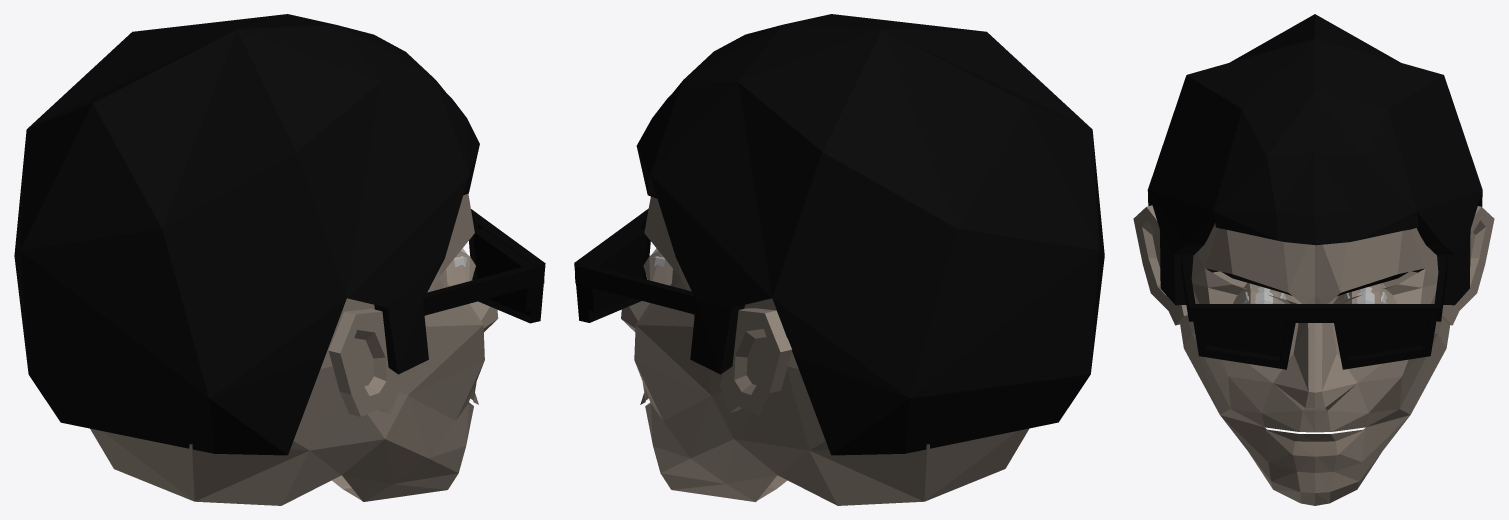
The model's file is head.dae.
3 views of the same model, side by side, from view 1: azimuth 30°, elevation 25°; view 2: azimuth 150°, elevation 25°; view 3: azimuth 270°, elevation 25° (orthographic). The views are drawn at different scales.
Parts seen in each view (by area): view 1: vthair, Head, vtspecs; view 2: vthair, Head, vtspecs; view 3: vthair, Head, vtspecs, vtlips, vteyewht.
Part boxes in pixels (left/top/right/bottom): vthair: left=14, top=14, right=479, bottom=455; Head: left=90, top=194, right=498, bottom=505; vtspecs: left=423, top=209, right=545, bottom=323; vthair: left=636, top=14, right=1104, bottom=455; Head: left=621, top=196, right=1029, bottom=505; vtspecs: left=574, top=208, right=695, bottom=322; vthair: left=1147, top=14, right=1482, bottom=305; Head: left=1133, top=205, right=1494, bottom=505; vtspecs: left=1181, top=256, right=1447, bottom=369; vtlips: left=1265, top=429, right=1365, bottom=456; vteyewht: left=1243, top=287, right=1387, bottom=303.
Bounding box in the file's own units: 0.9311 × 0.7858 × 0.9429.
